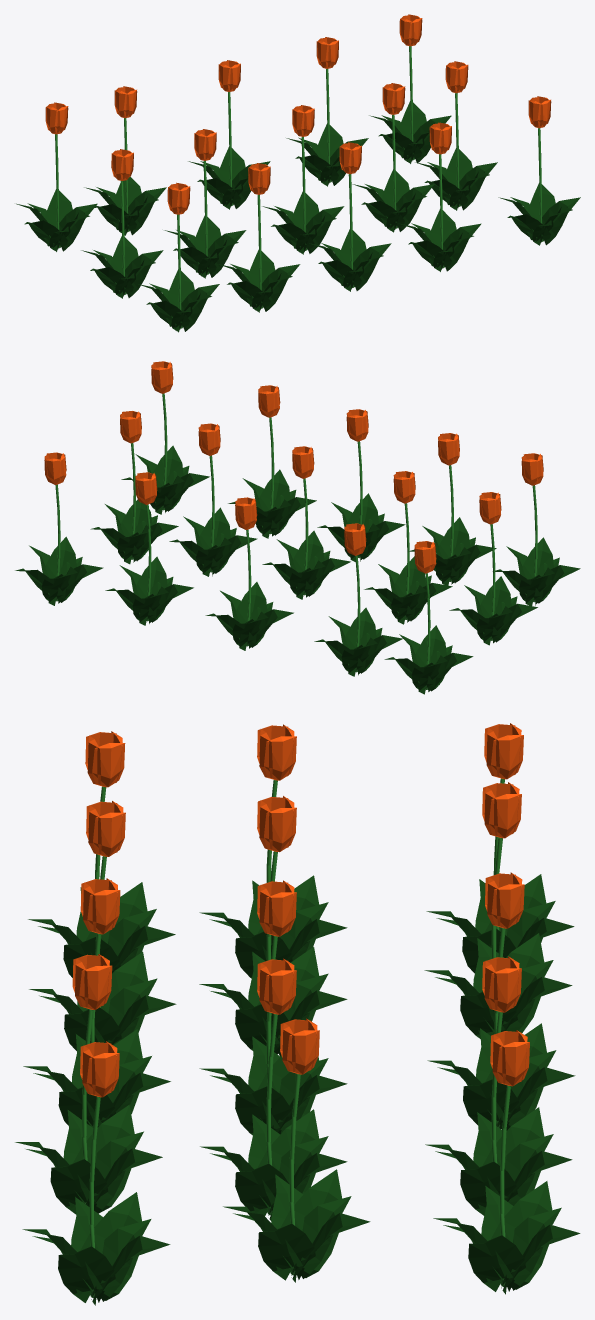
File: some tulips.obj
3 renders of one model, top to bottom at view 1: azimuth 30°, elevation 25°; view 2: azimuth 150°, elevation 25°; view 3: azimuth 270°, elevation 25°, orthographic. The views are drawn at different scales.
Parts seen in each view (by area): view 1: tulip; view 2: tulip; view 3: tulip.
Part boxes in pixels (bbox=[...]): tulip: bbox=[16, 14, 580, 332]; tulip: bbox=[15, 361, 580, 694]; tulip: bbox=[15, 723, 580, 1305].
Size of the model in its own units: 1030 by 322 by 648.
